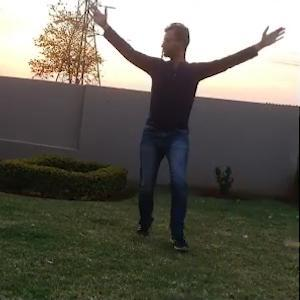takeoff: (105, 7, 289, 247)
